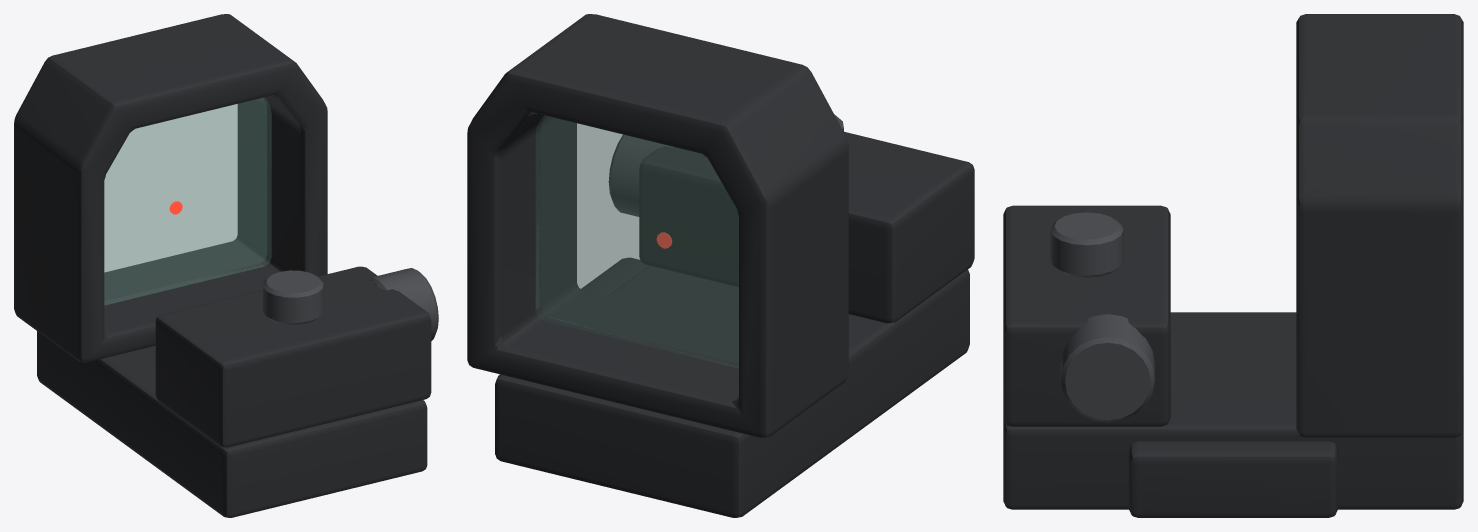
File: mod_rail_reflex_sight.glb
3 renders of one model, left to right at view 1: azimuth 30°, elevation 25°; view 2: azimuth 150°, elevation 25°; view 3: azimuth 270°, elevation 25°, orthographic. The views are drawn at different scales.
Visible parts, largest first — view 1: ReflexSight, ReflexSightLens, ReflexSightDetails; view 2: ReflexSight, ReflexSightLens, ReflexSightDetails; view 3: ReflexSight, ReflexSightDetails.
Part boxes in pixels (<box>): ReflexSight: <box>14,14,431,517</box>; ReflexSightLens: <box>104,97,271,305</box>; ReflexSightDetails: <box>263,268,438,340</box>; ReflexSight: <box>467,14,974,517</box>; ReflexSightLens: <box>535,115,738,368</box>; ReflexSightDetails: <box>608,114,843,216</box>; ReflexSight: <box>1003,14,1463,517</box>; ReflexSightDetails: <box>1050,212,1154,422</box>.
Size of the model in its own units: 0.0345 by 0.041 by 0.044.
